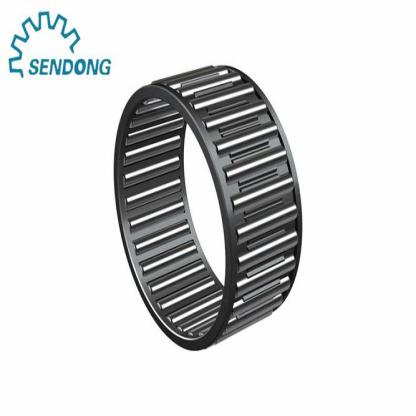FOD: (102, 60, 308, 353)
